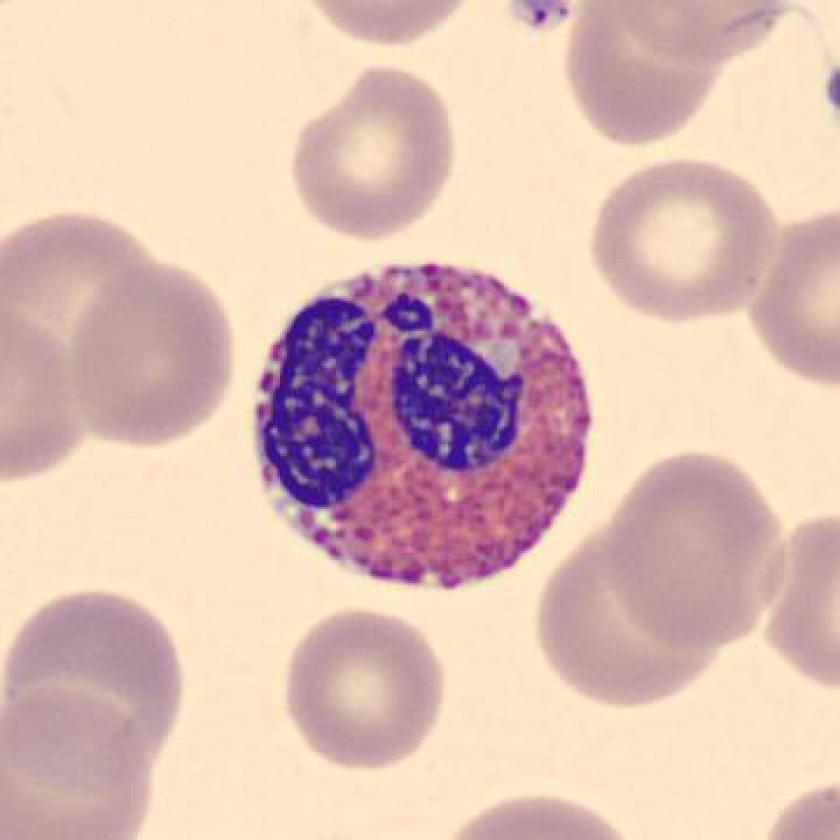eosinophil: (244, 249, 603, 605)
